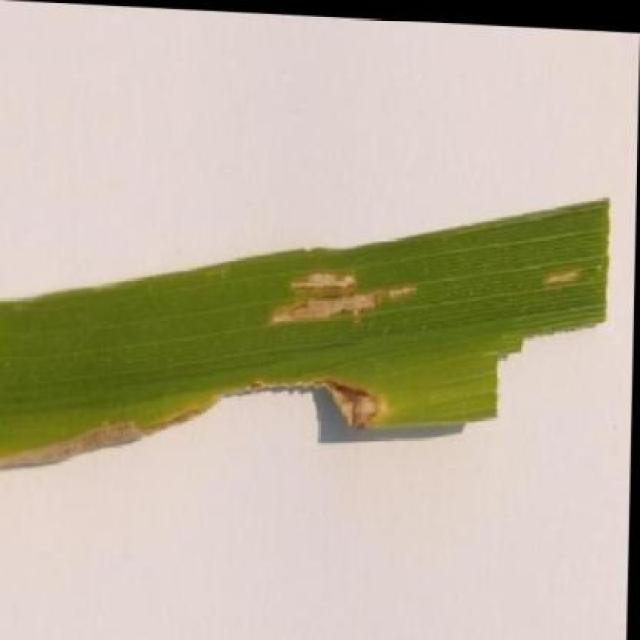Brown_Spot: (0, 163, 614, 502)
